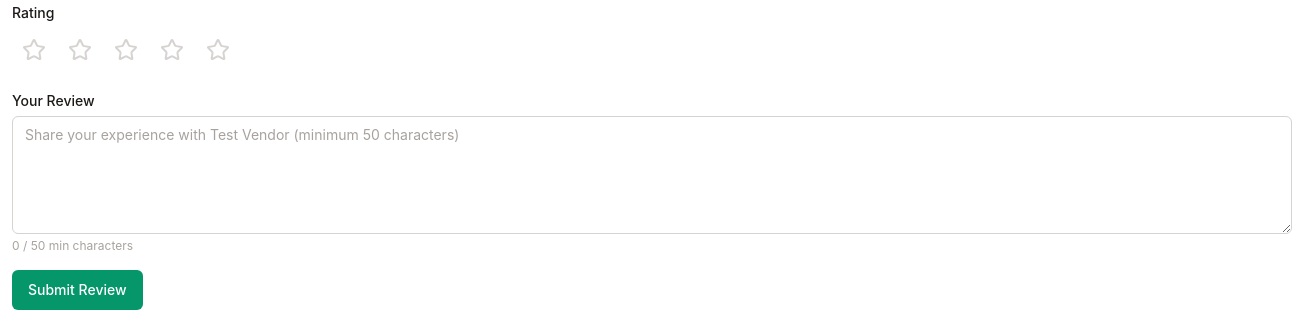
ReviewForm › validates minimum body length
The width and height of the screenshot is (1304, 331).
Set rating
Click the button named "4 stars": {"x": 172, "y": 50} 150,28 -> 194,72
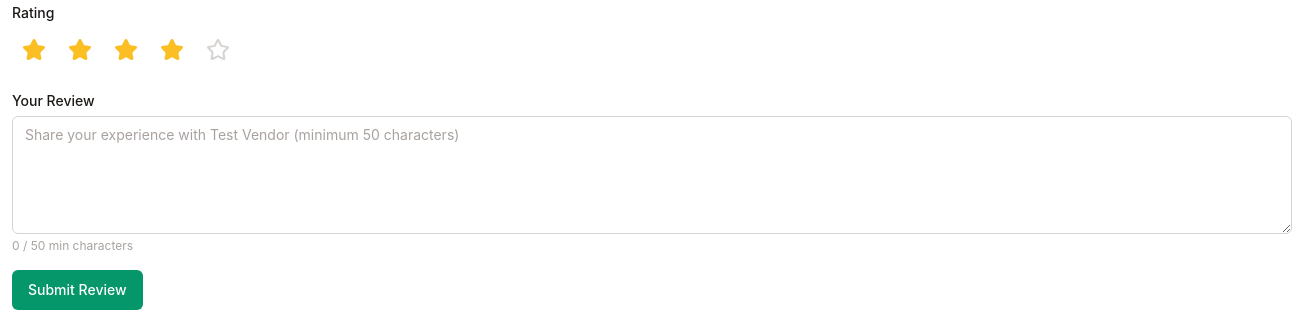
Short body
Replace the text in the text box labelled "Your Review" with "Too short": {"x": 652, "y": 175} 12,116 -> 1292,234
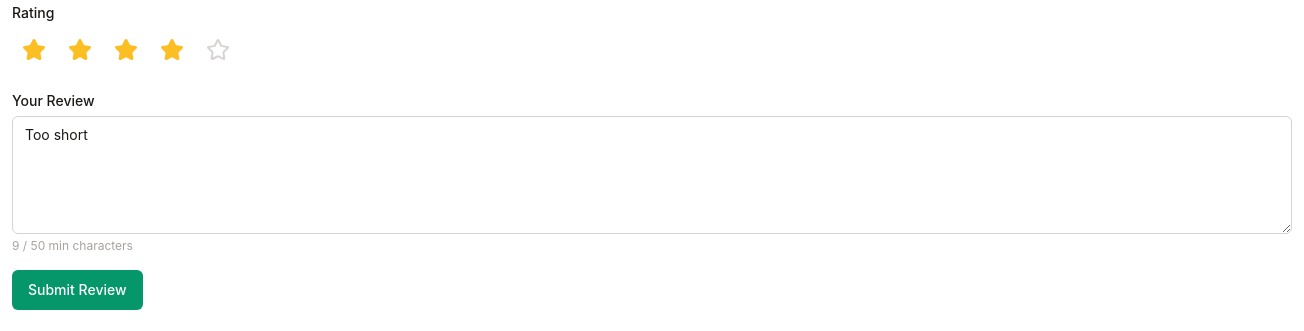
Click the button "Submit Review": {"x": 77, "y": 290} 12,270 -> 143,310
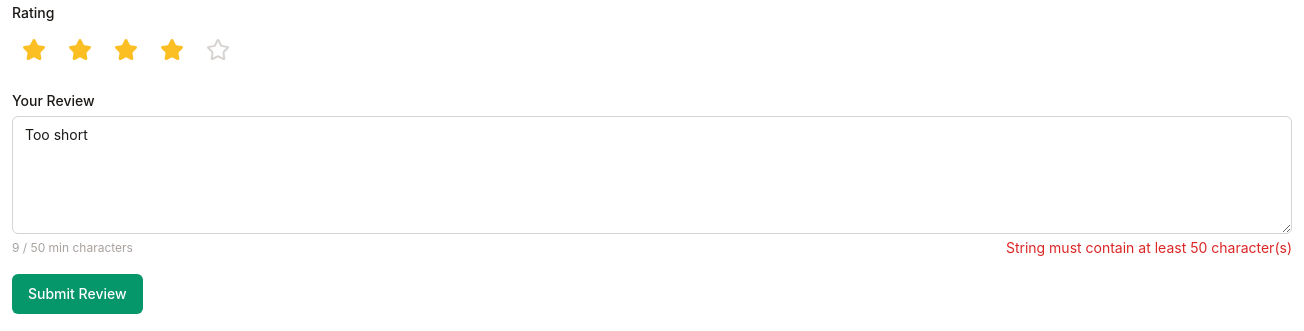
Expected: the text "String must contain at least 50 character(s)" is shown, 1006,238 -> 1292,258
